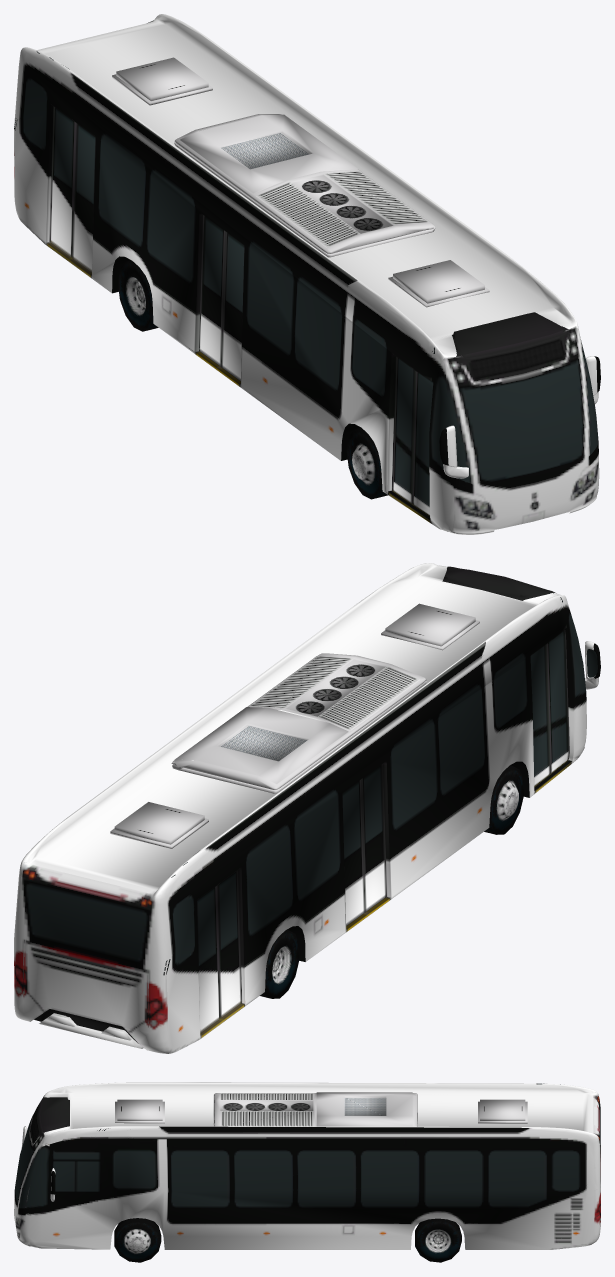
The model's file is buscar.glb.
3 views of the same model, one above another, from view 1: azimuth 30°, elevation 25°; view 2: azimuth 150°, elevation 25°; view 3: azimuth 270°, elevation 25° (orthographic). The views are drawn at different scales.
Parts seen in each view (by area): view 1: bus; view 2: bus; view 3: bus.
Part boxes in pixels (x1=…): bus: x1=14, y1=14, x2=600, y2=534; bus: x1=14, y1=563, x2=600, y2=1053; bus: x1=14, y1=1082, x2=600, y2=1262.
Size of the model in its own units: 2.86 by 3.06 by 12.15.
1 material, 1 textured.
